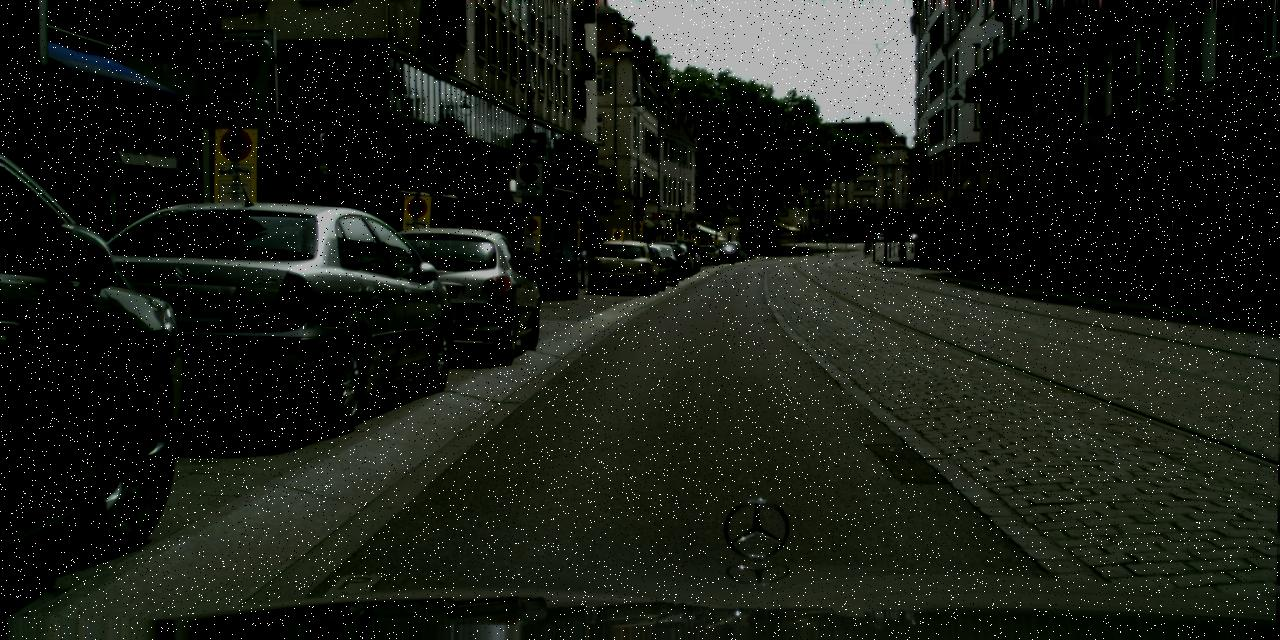ped: (898, 238, 906, 260), (864, 238, 870, 252)
